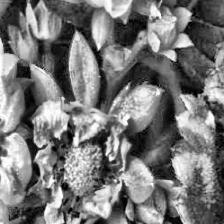Blossom Blight: (48, 121, 119, 217)
